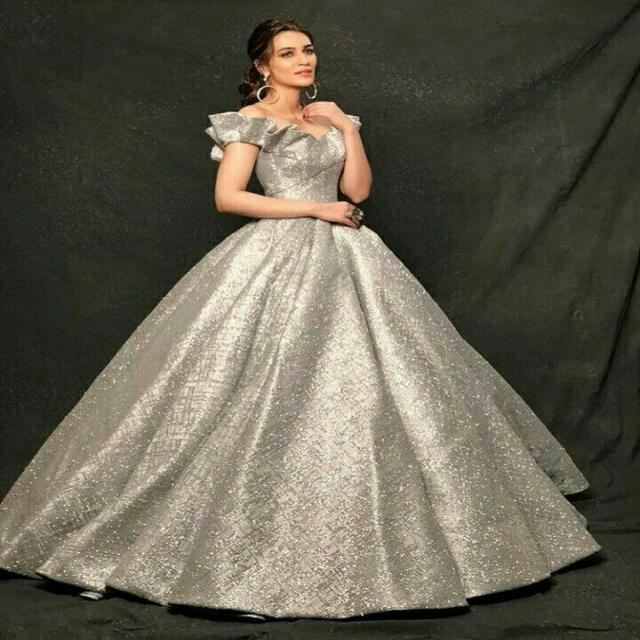female-dress: (0, 110, 599, 622)
